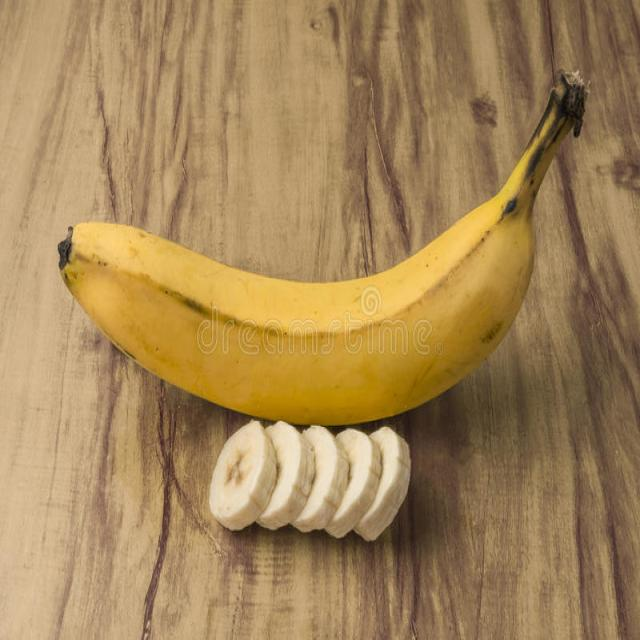banana: (54, 62, 594, 440)
